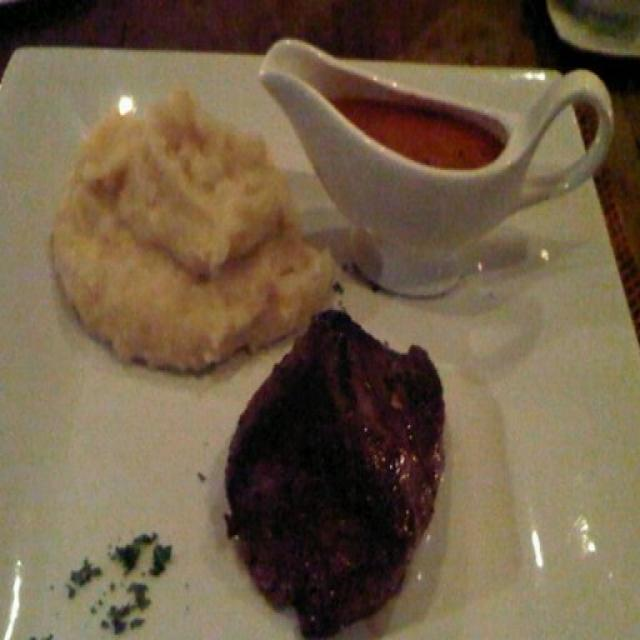Steak: (220, 343, 476, 625)
